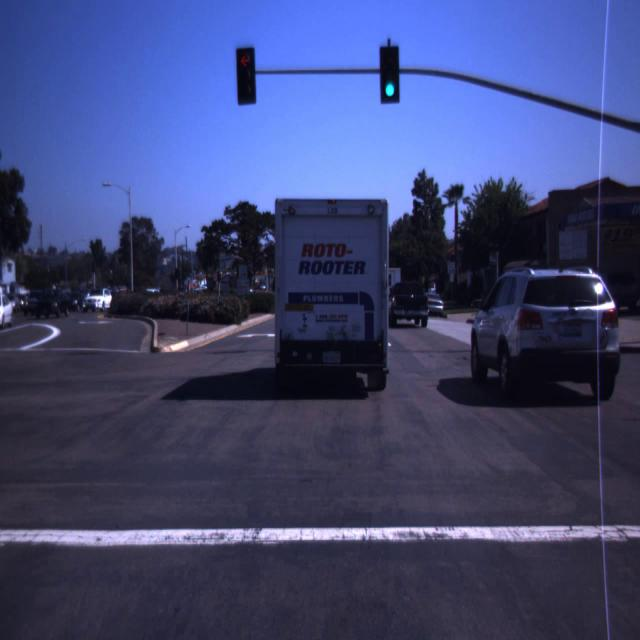kirmizi: (236, 48, 256, 105)
yesil: (380, 46, 399, 103)
